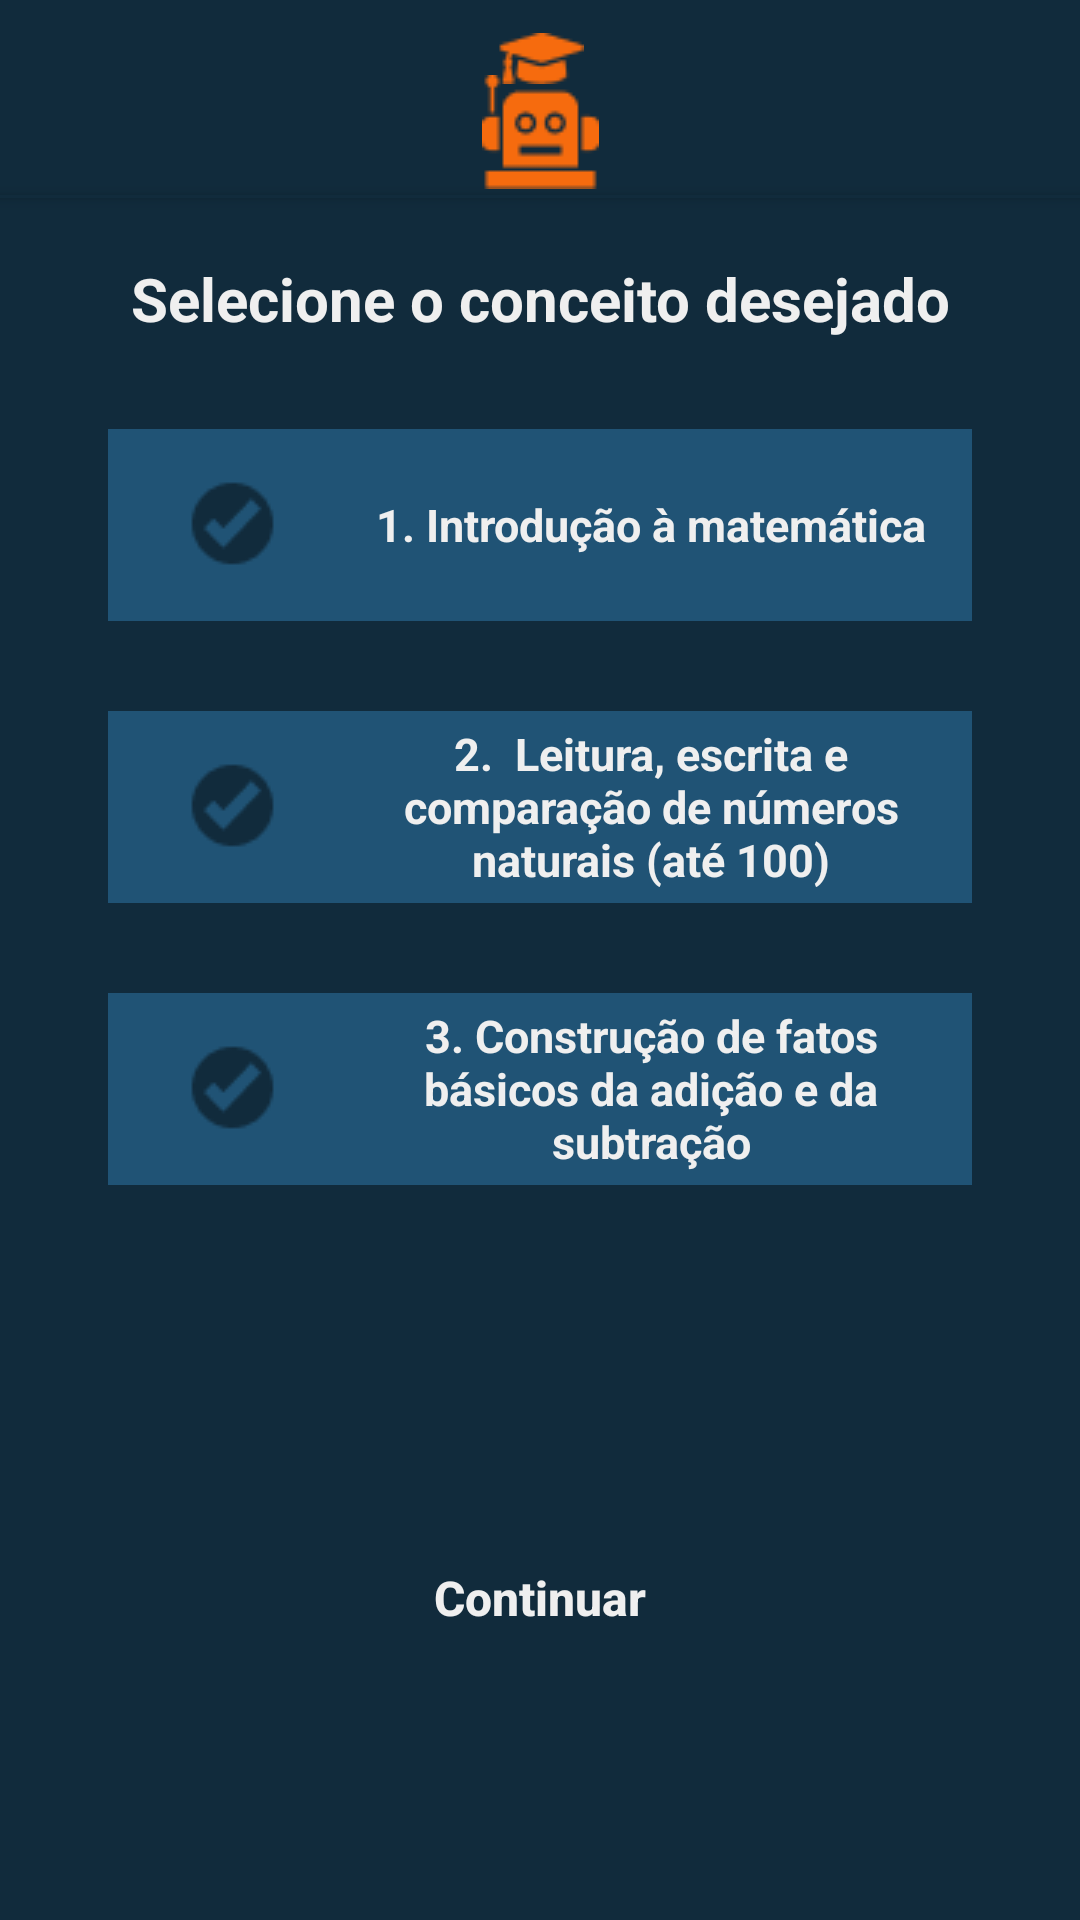

Icons on this 1080*1920 Android screen, each with the point to tap as point (x, y):
cap: point (541, 58)
minirobot: point (540, 132)
